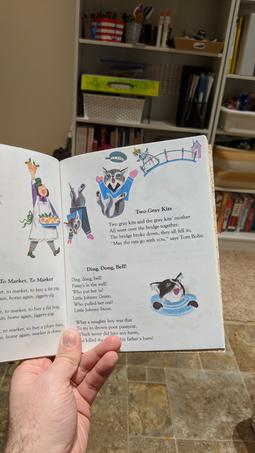text block: (61, 260, 158, 343), (104, 201, 209, 248), (1, 276, 69, 342)
